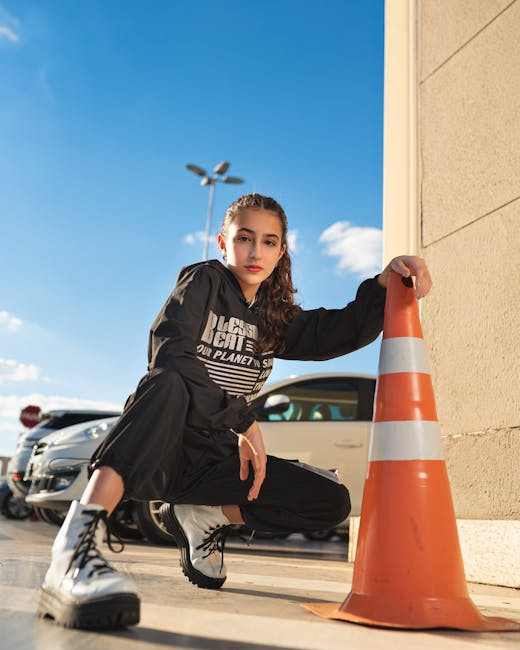traffic_cone: (300, 268, 519, 633)
